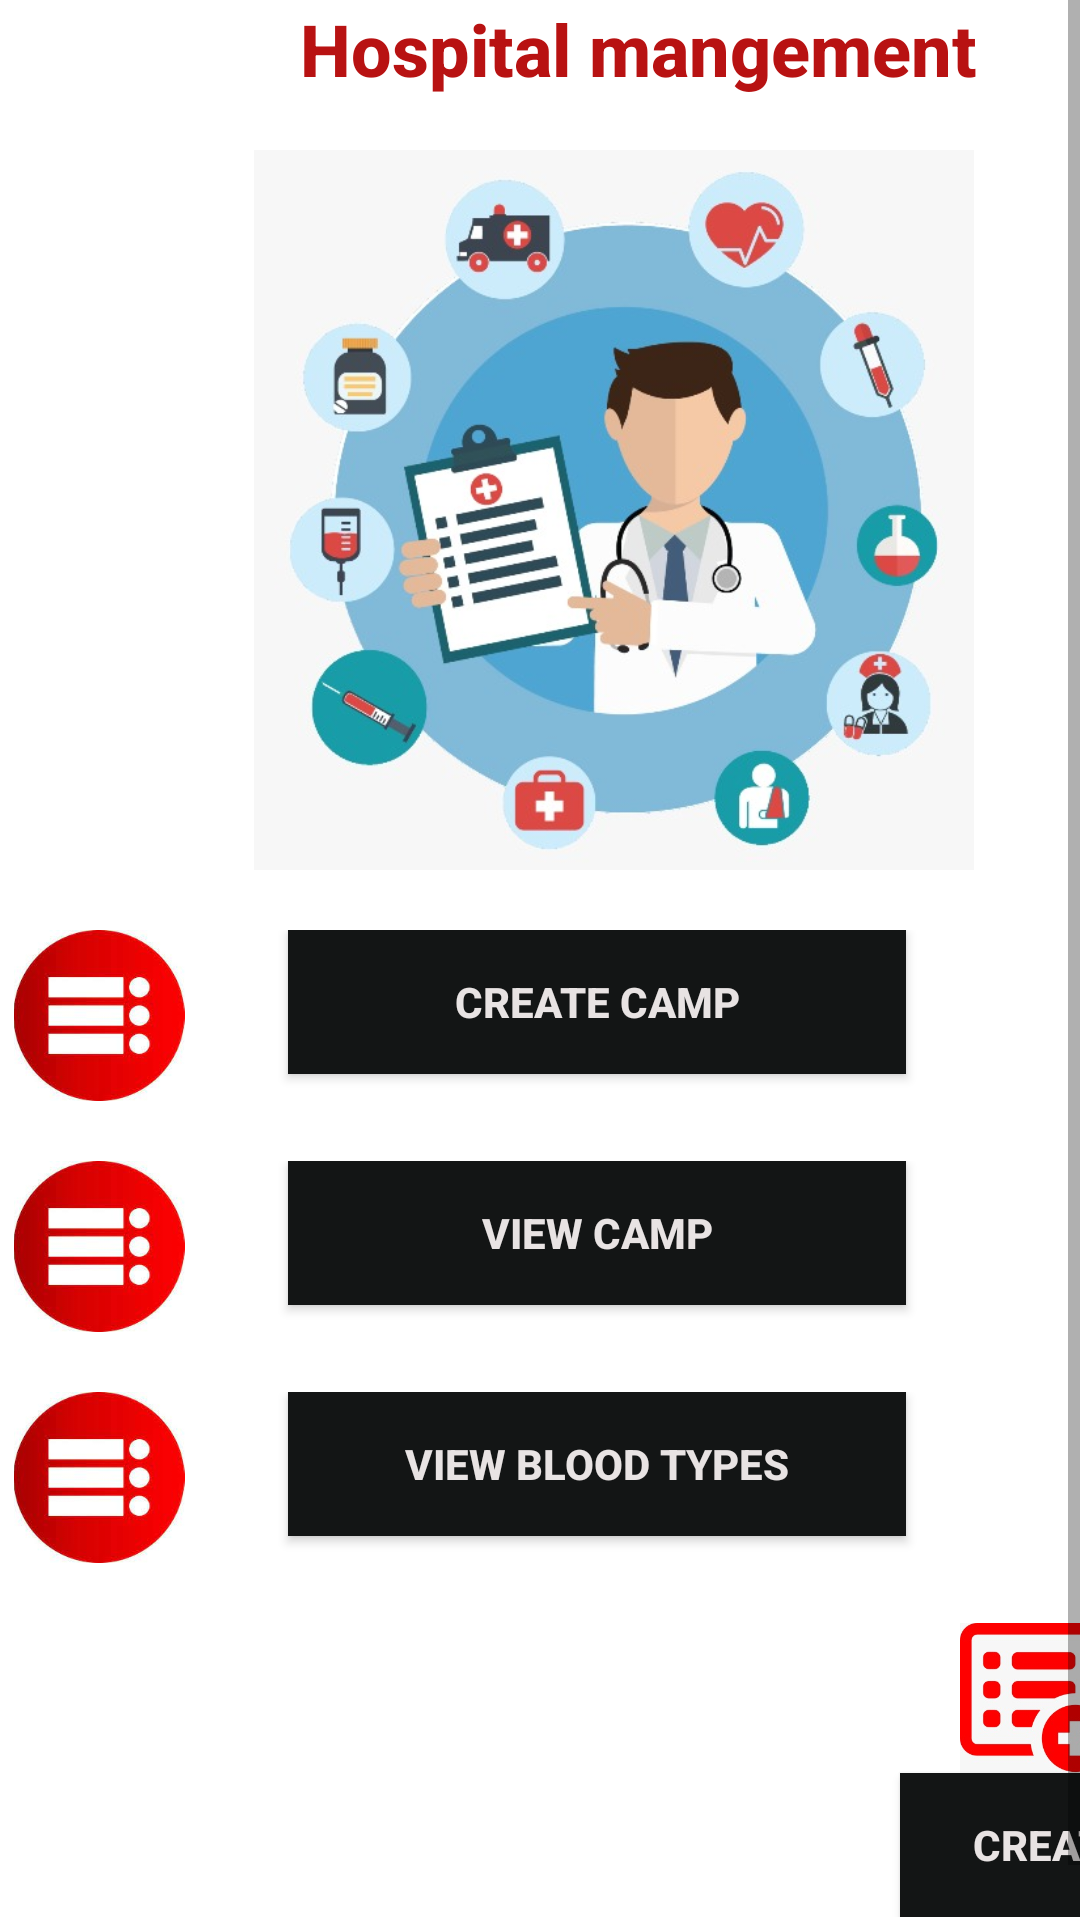

Screen size 1080*1920. Icon name, then its center in pixels as (x,y):
list: (99,1015), (99,1246), (99,1477)
